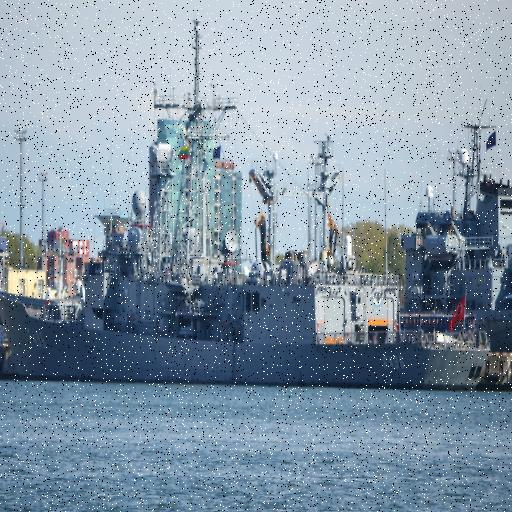Fragata: (1, 10, 494, 394)
